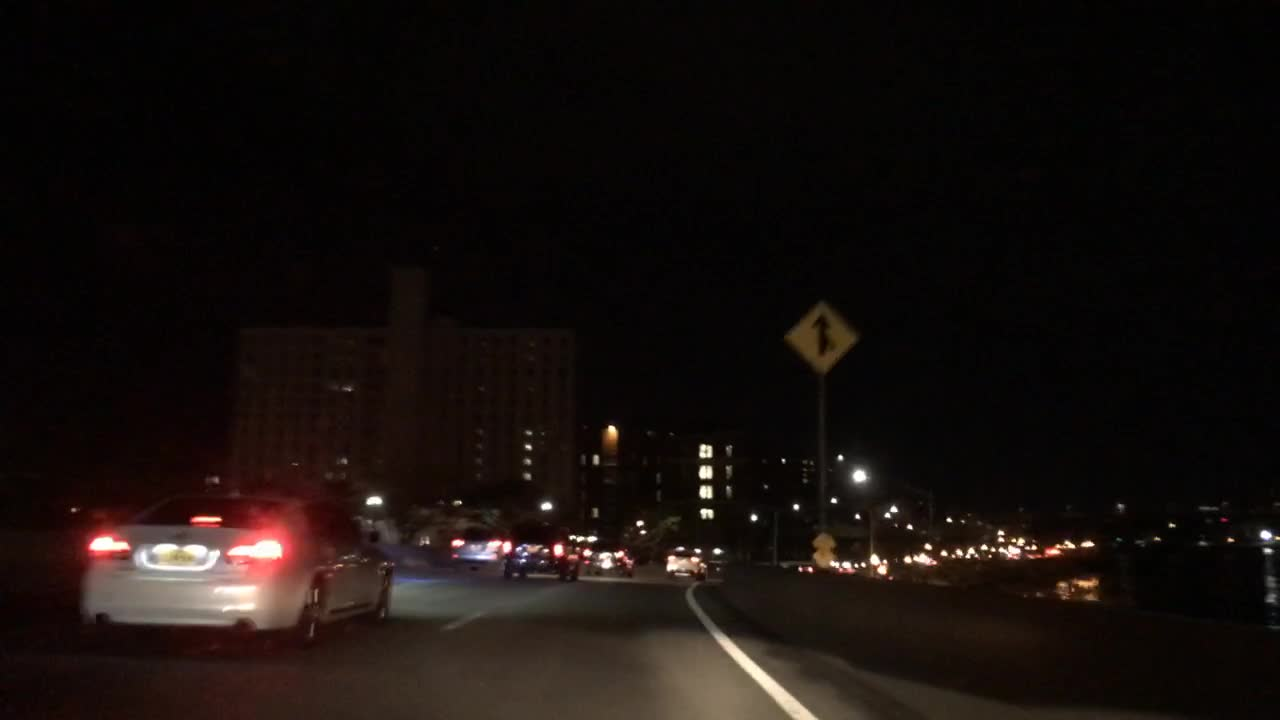car: (74, 483, 394, 645), (504, 530, 579, 584), (450, 526, 503, 568), (587, 543, 639, 578), (665, 548, 706, 581)
traffic sign: (785, 298, 860, 376), (814, 554, 836, 570), (813, 533, 831, 549)
